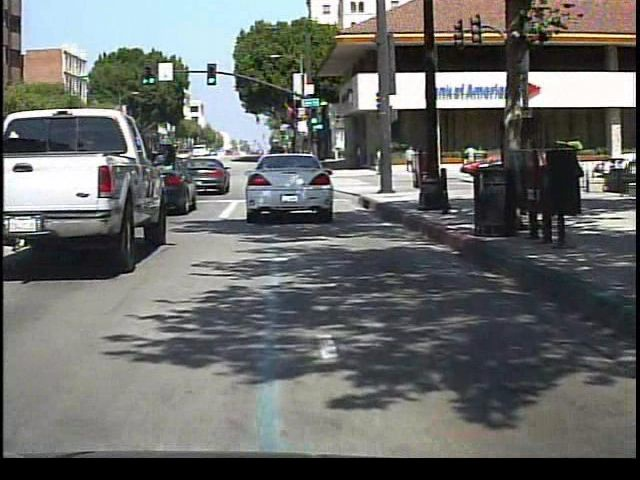person: (460, 139, 480, 173), (402, 142, 419, 176)
